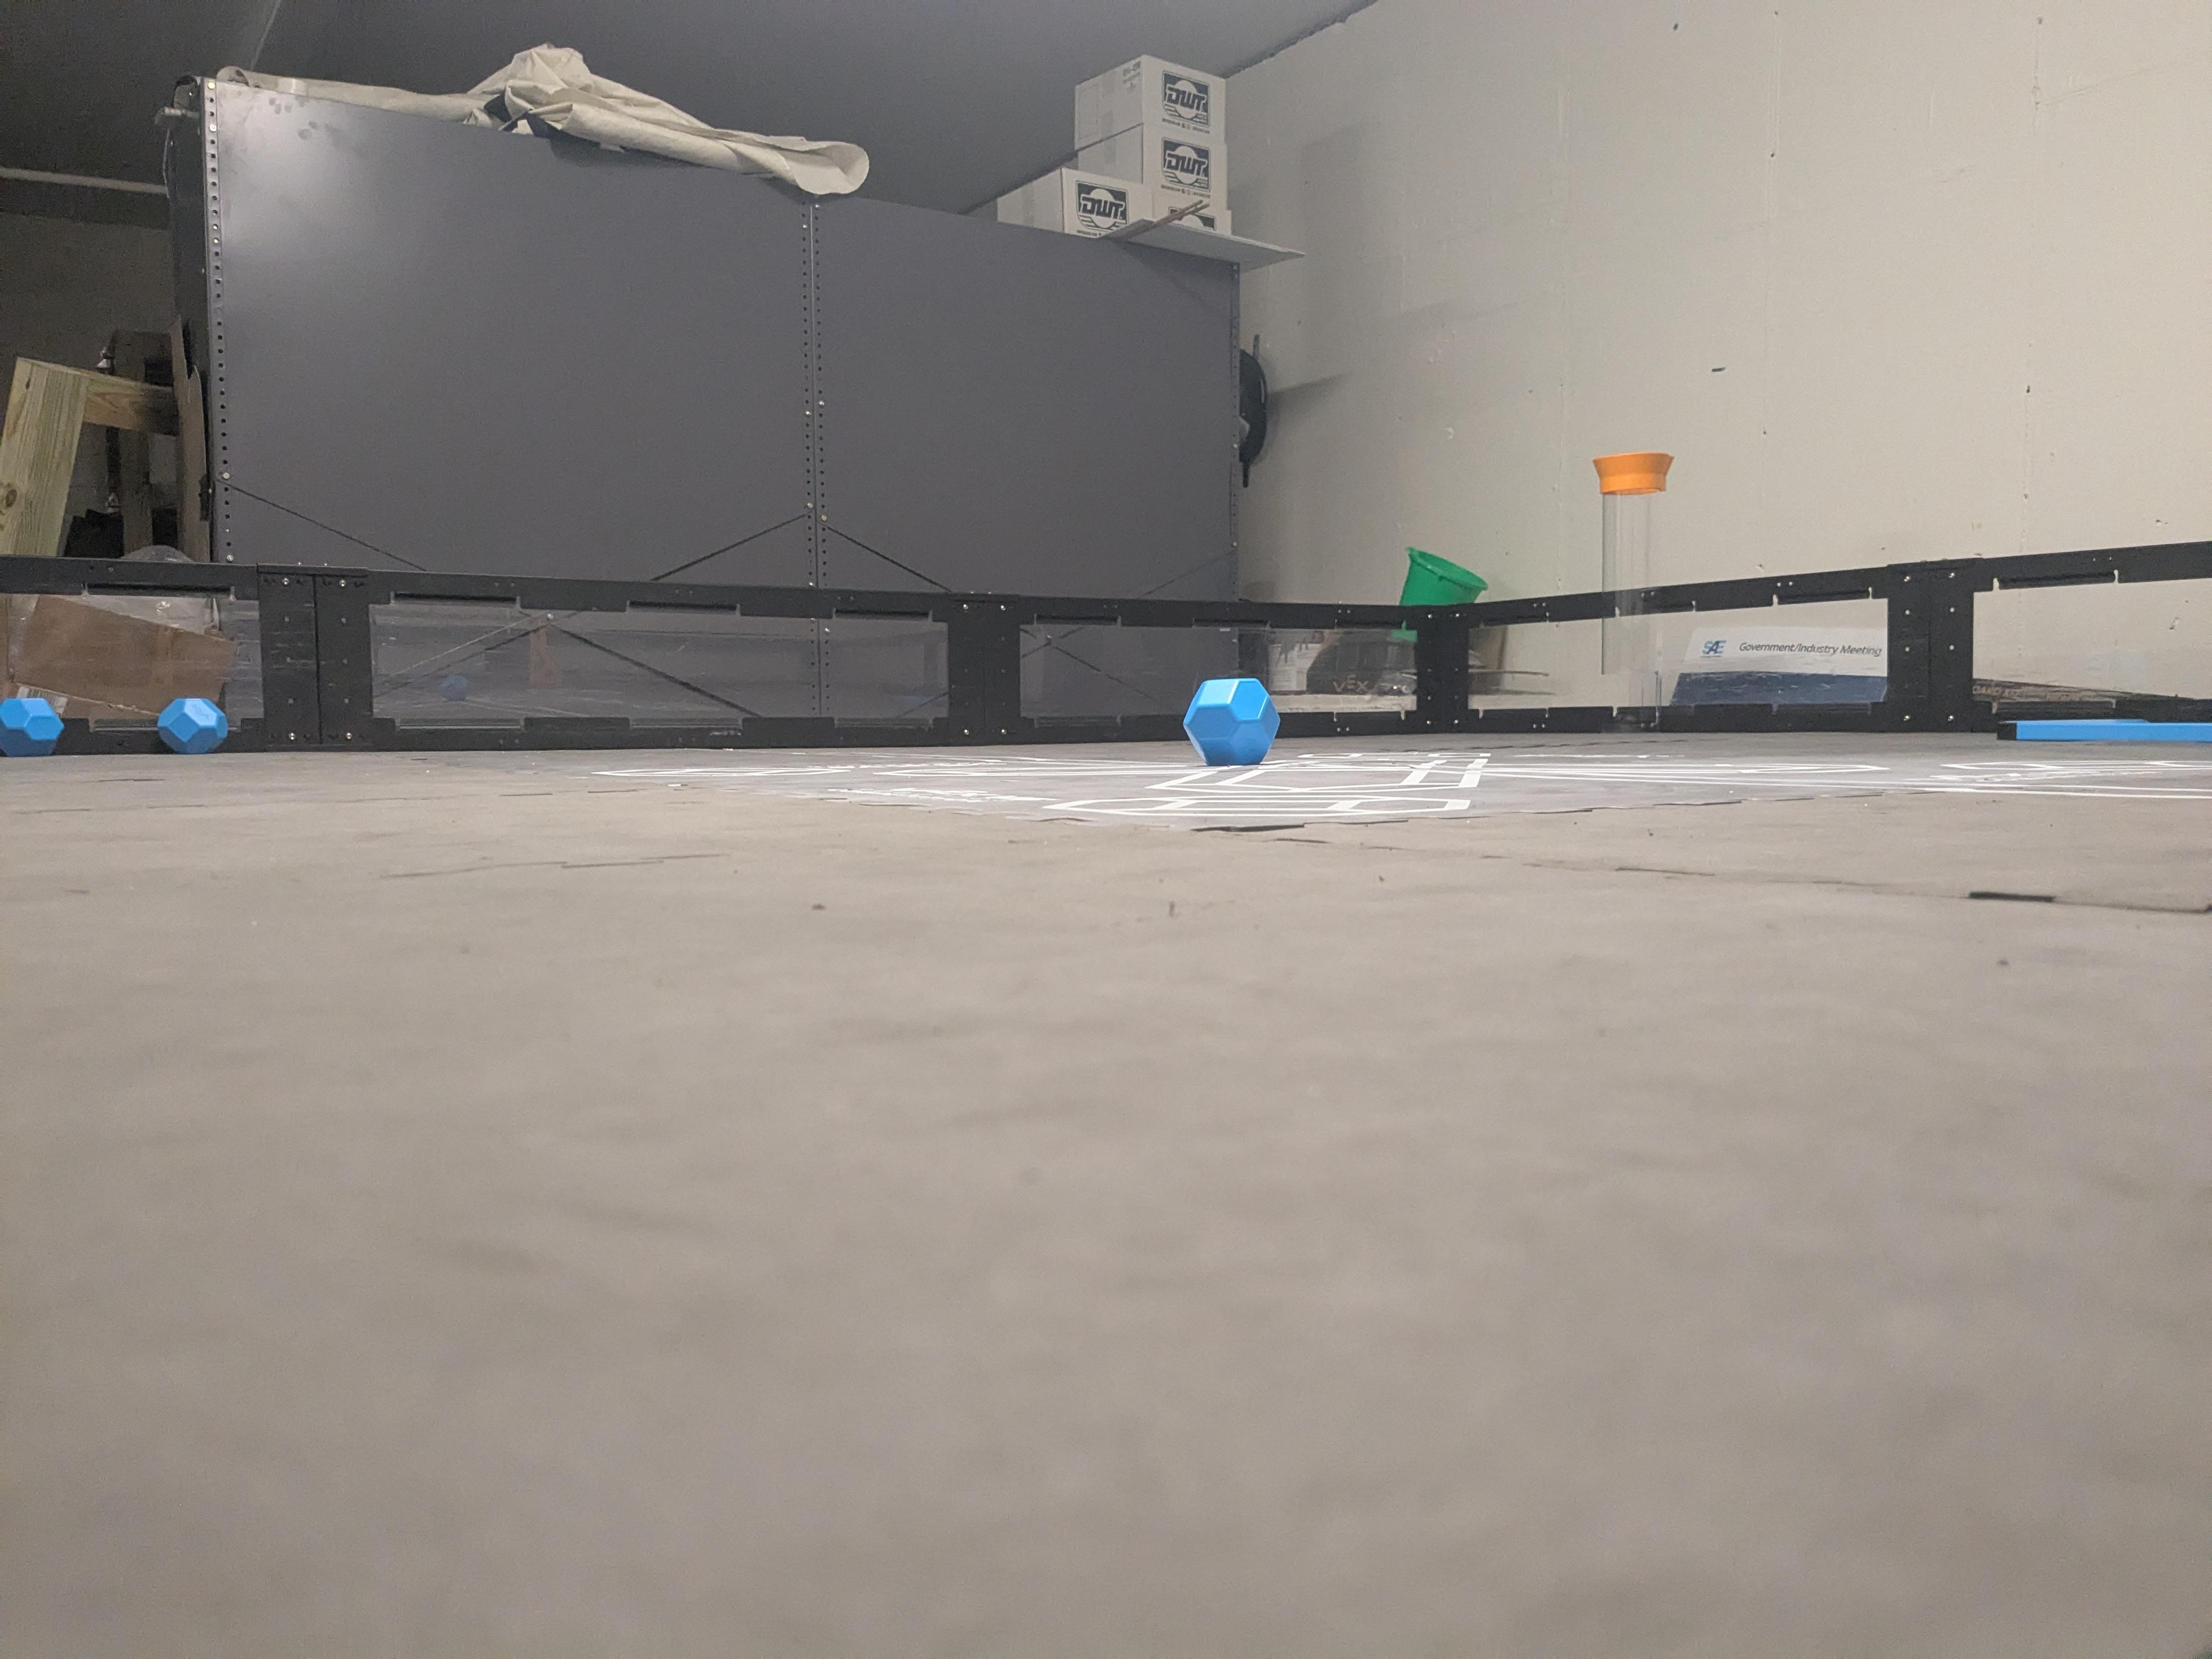Vex-Pieces-BLUE: (1184, 678, 1278, 765), (157, 697, 228, 755), (0, 697, 63, 756)
